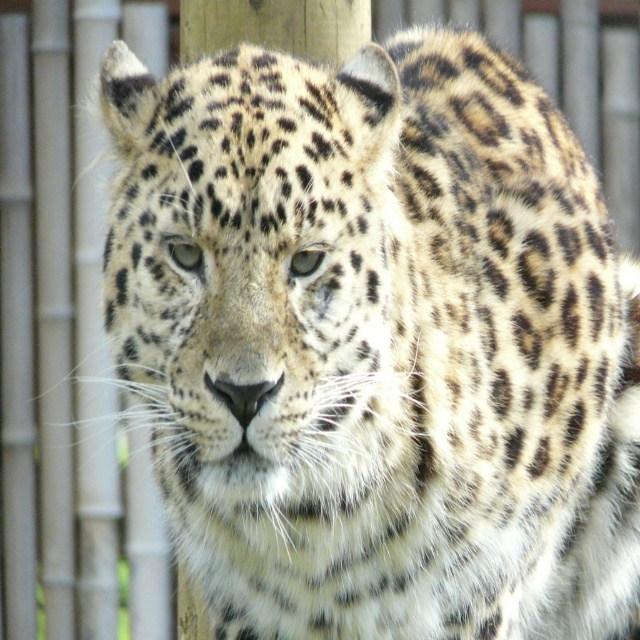Jaguar: (24, 15, 640, 639)
